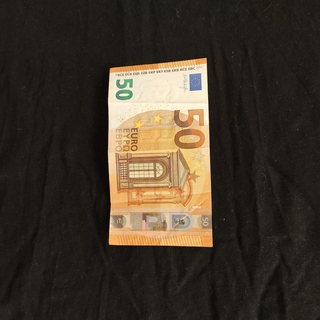50EUROFront: (107, 57, 214, 248)
